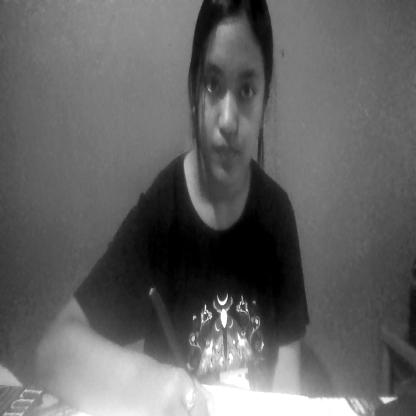Normal: (192, 5, 269, 187)
